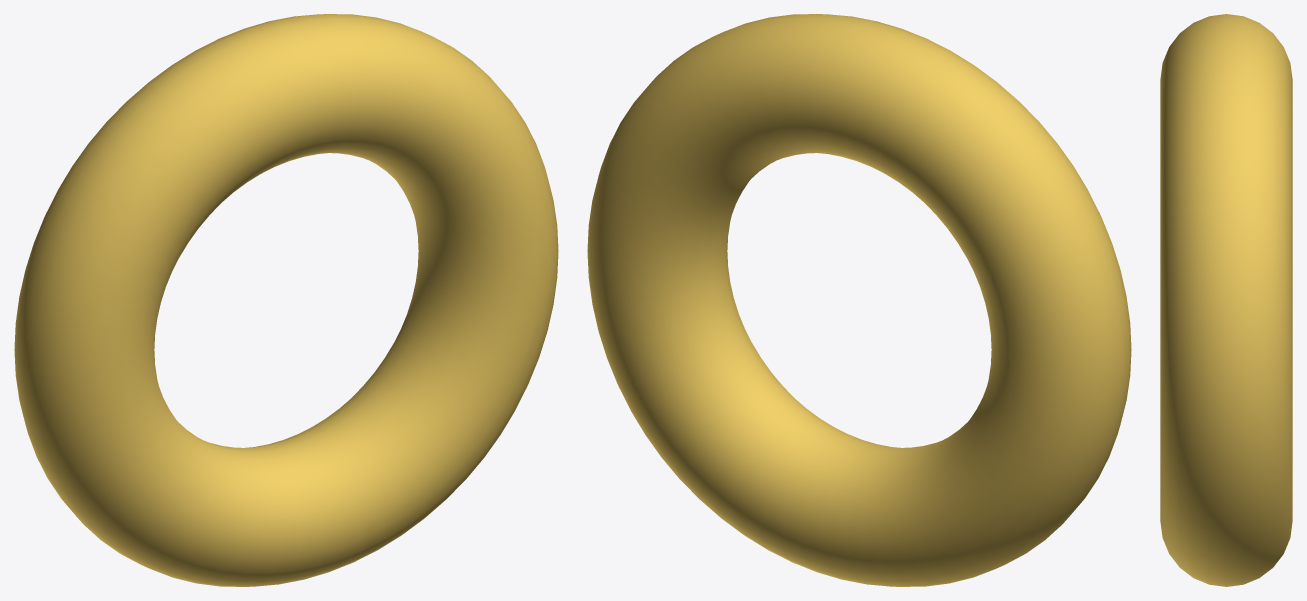
The model's file is ring.glb.
3 views of the same model, side by side, from view 1: azimuth 30°, elevation 25°; view 2: azimuth 150°, elevation 25°; view 3: azimuth 270°, elevation 25° (orthographic). The views are drawn at different scales.
Parts seen in each view (by area): view 1: ring; view 2: ring; view 3: ring.
Part boxes in pixels (x1,y1,x2,y2): ring: [14, 14, 558, 586]; ring: [587, 14, 1131, 586]; ring: [1160, 14, 1292, 586].
Size of the model in its own units: 2.6 by 2.6 by 0.6.
